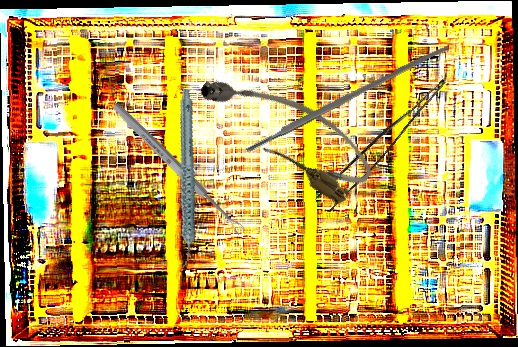Cannula: (191, 49, 383, 211)
Handpiece: (140, 87, 229, 270)
Scalpel Handle: (244, 42, 450, 154)
Surgical Spoon: (110, 100, 246, 237)
Tissue Forceps: (315, 66, 446, 216)
